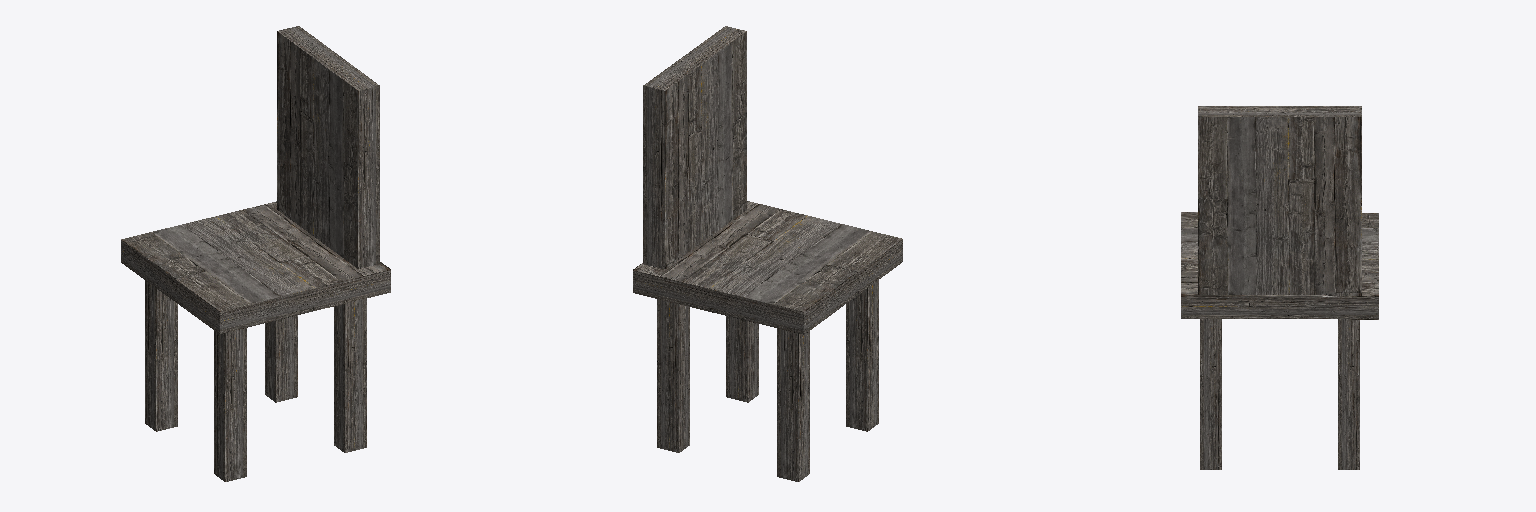
3 views of the same model, side by side, from view 1: azimuth 30°, elevation 25°; view 2: azimuth 150°, elevation 25°; view 3: azimuth 270°, elevation 25° (orthographic).
Visible parts, largest first — view 1: polySurface6; view 2: polySurface6; view 3: polySurface6.
Boxes of the visible parts, box(x1,y1,x2,y2) form: polySurface6: box(121, 26, 390, 481); polySurface6: box(633, 26, 902, 481); polySurface6: box(1181, 106, 1378, 469).
Size of the model in its own units: 2.68 by 5.37 by 2.68.
Materials: 1 (1 with a texture image).